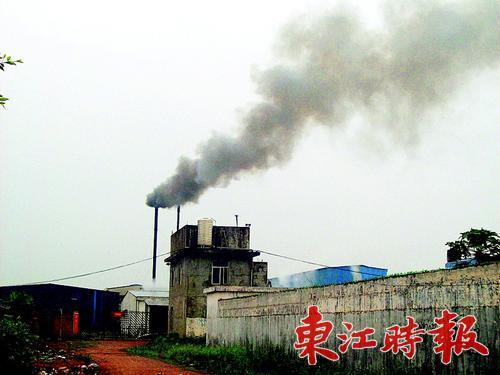smoke: (146, 74, 312, 209)
